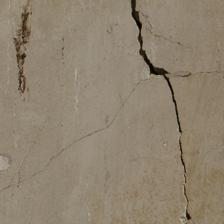Crack: (42, 29, 179, 119), (41, 15, 150, 63), (25, 73, 124, 94), (124, 17, 159, 49)
